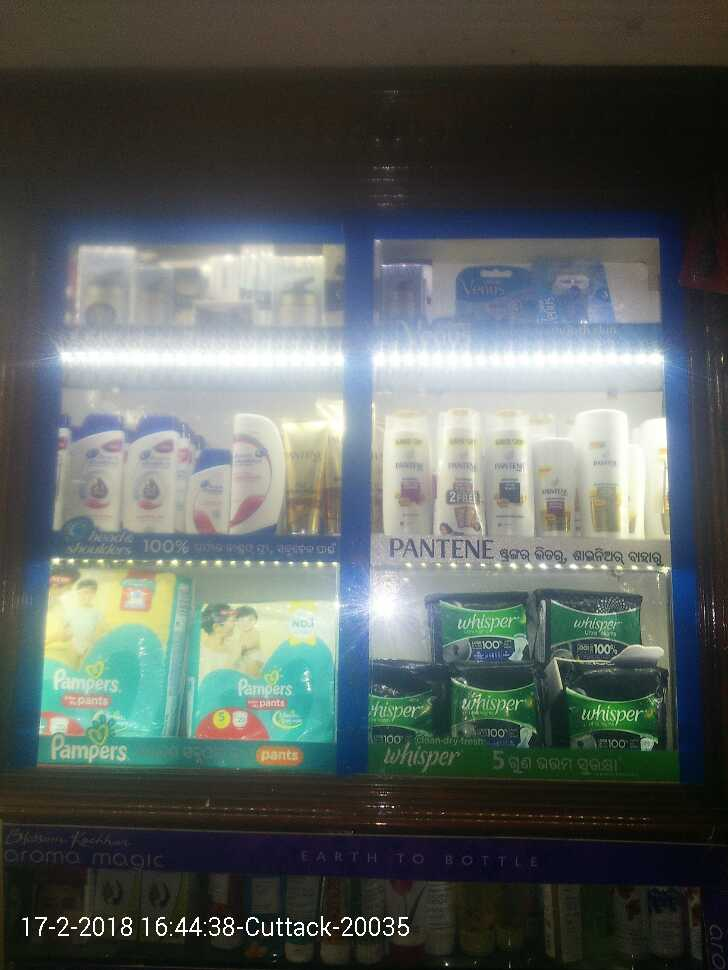venus: (538, 258, 611, 322), (459, 267, 538, 322), (382, 260, 432, 322)
